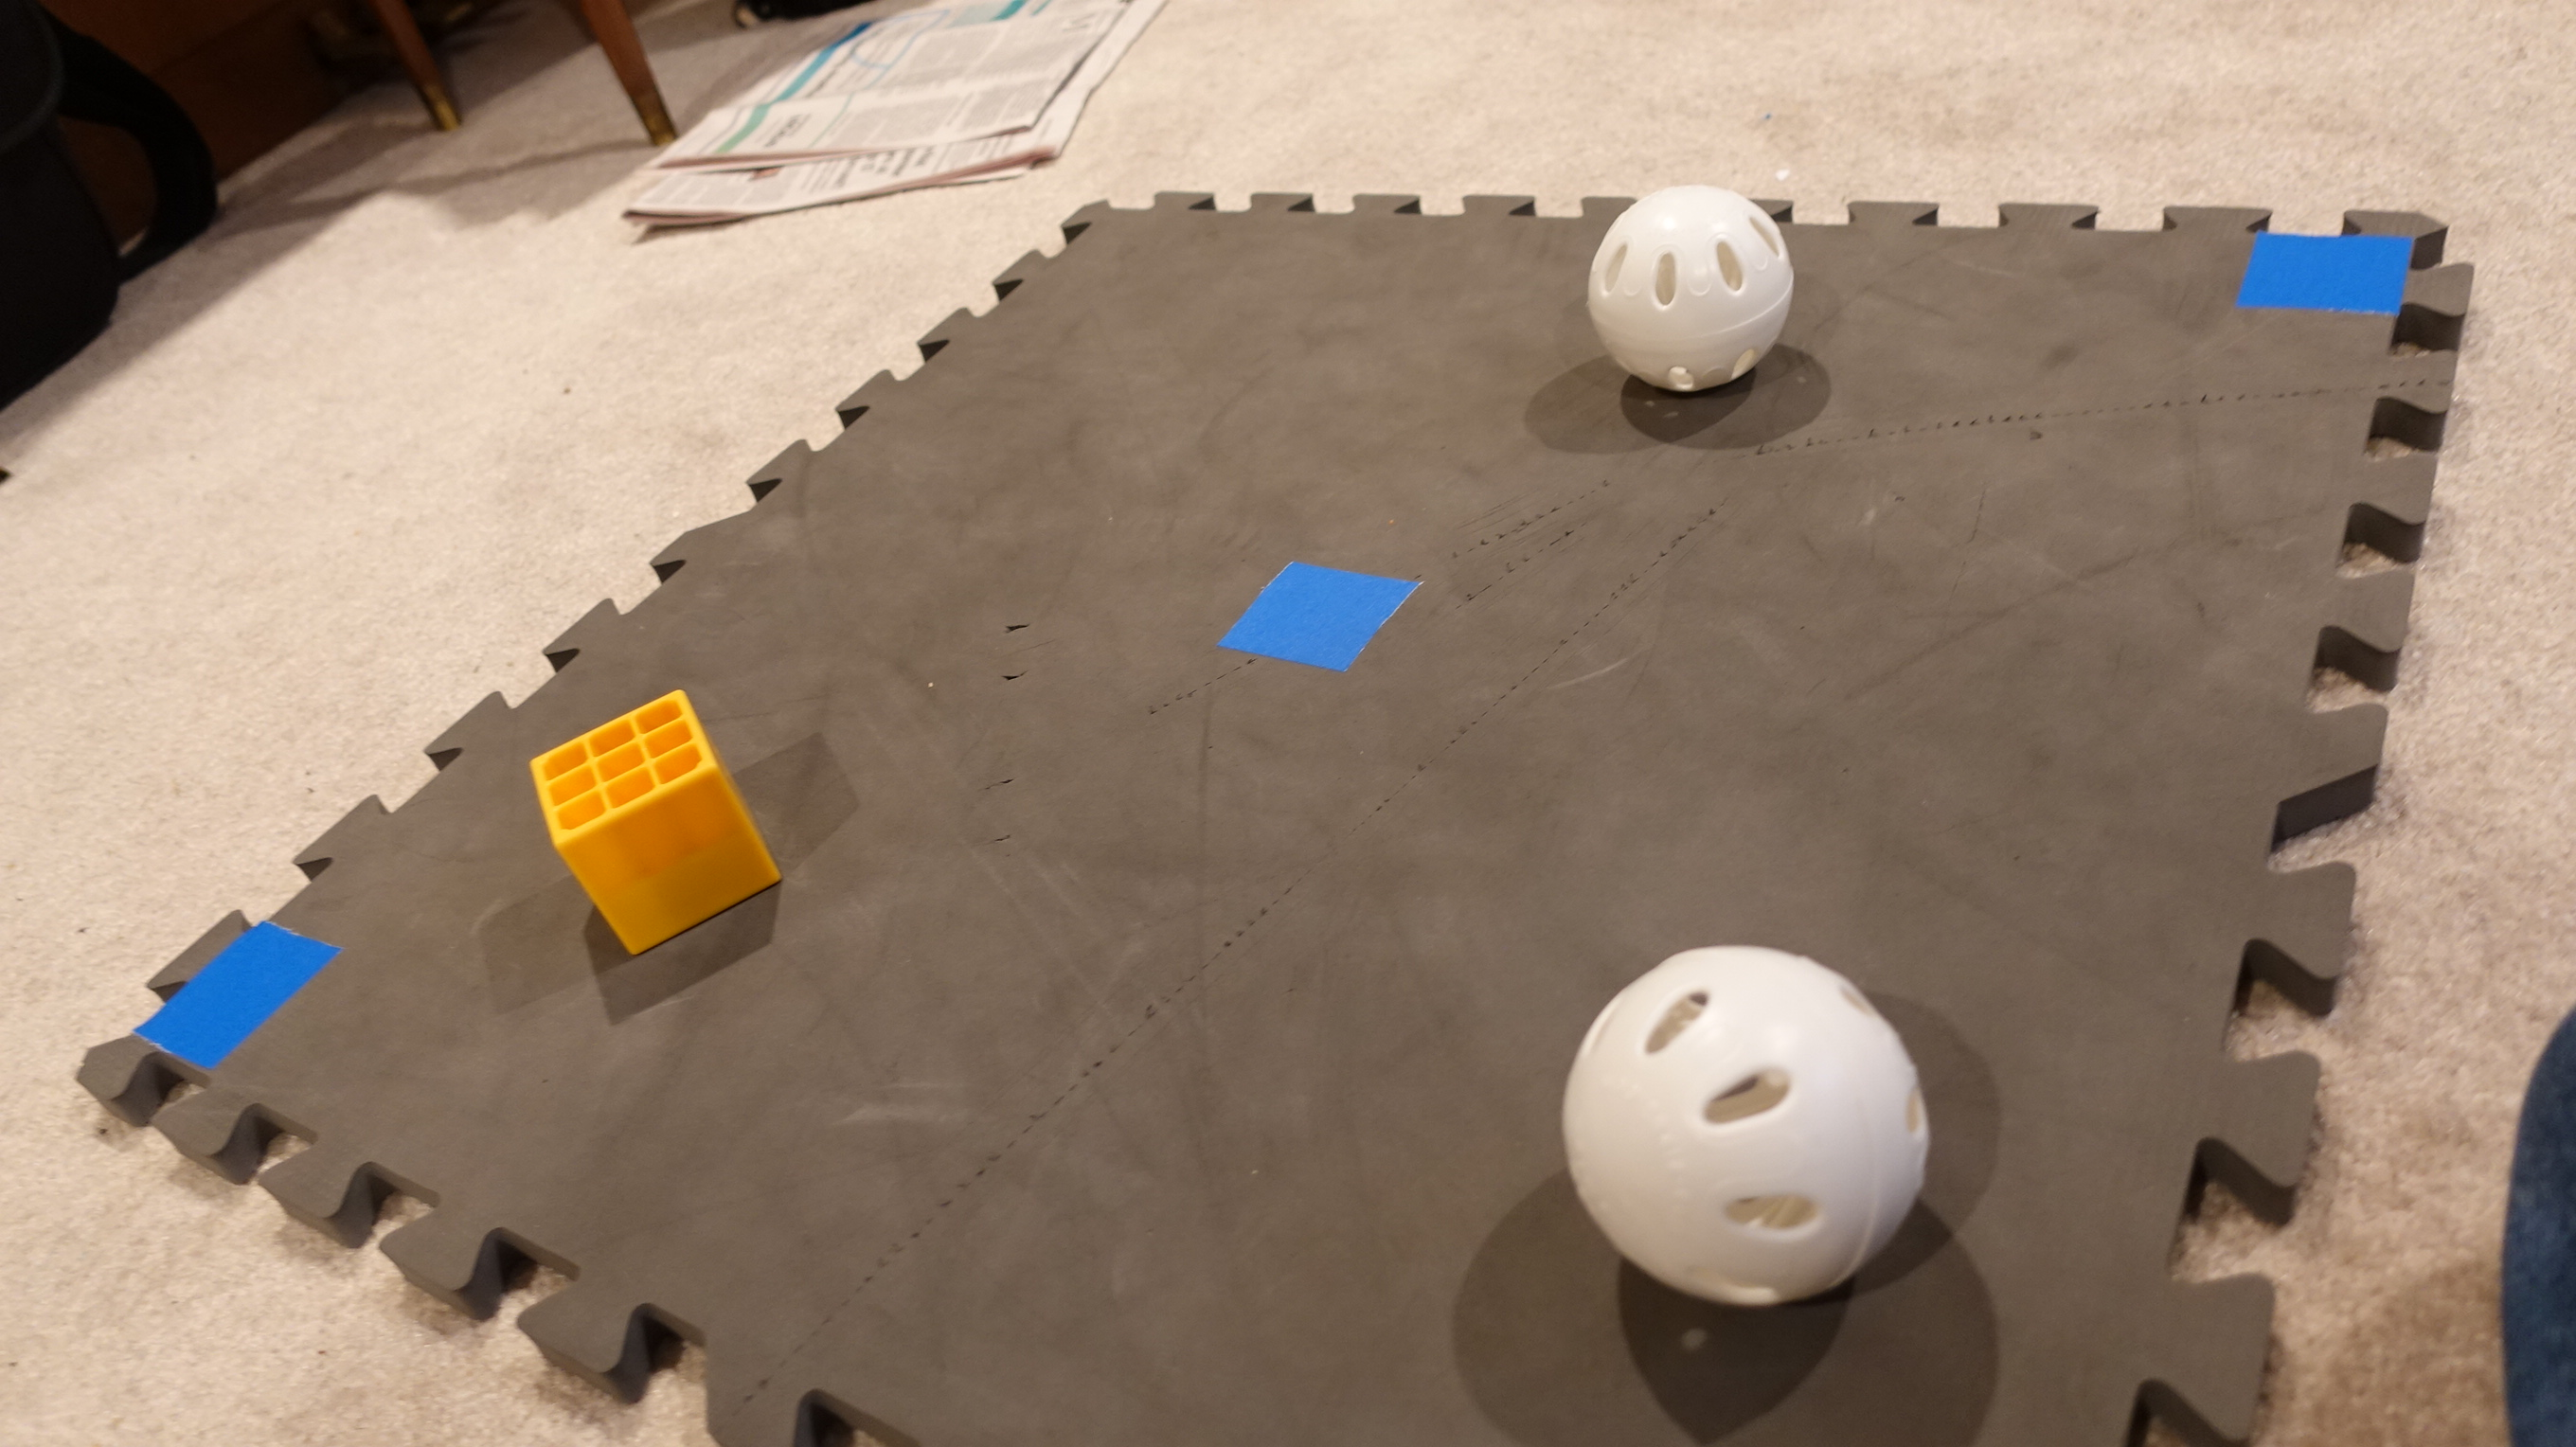gold: (515, 685, 787, 959)
silver: (1550, 934, 1957, 1327), (1576, 182, 1815, 394)
